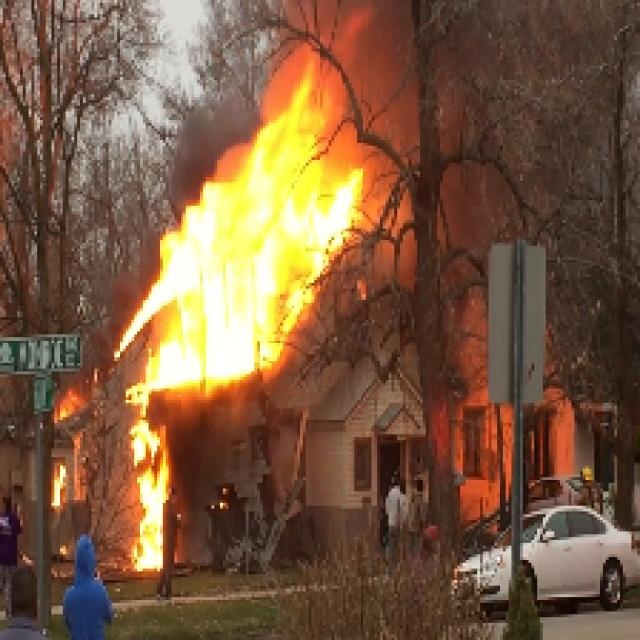fire: (128, 109, 344, 379)
